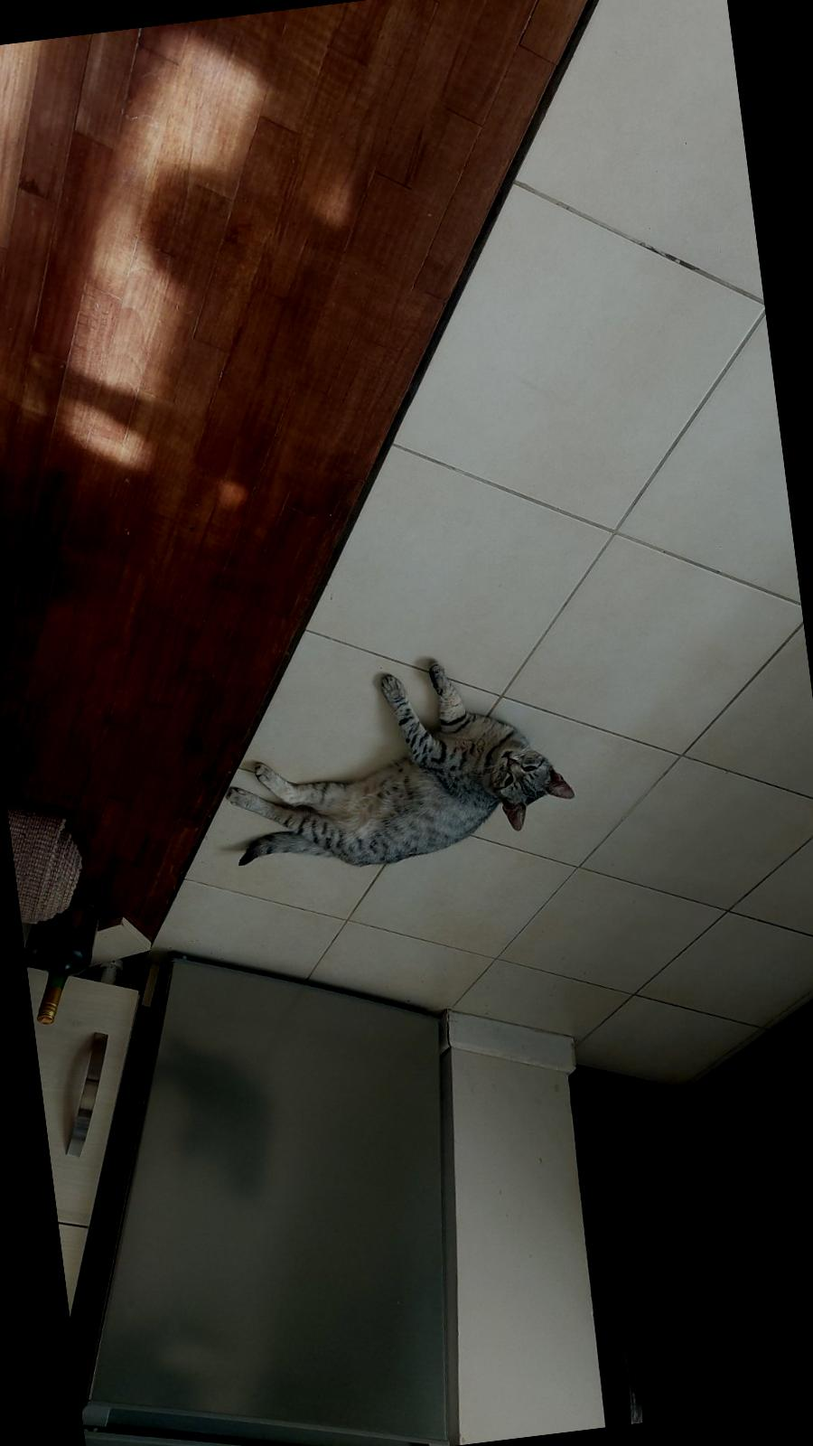macka: (212, 648, 581, 883)
